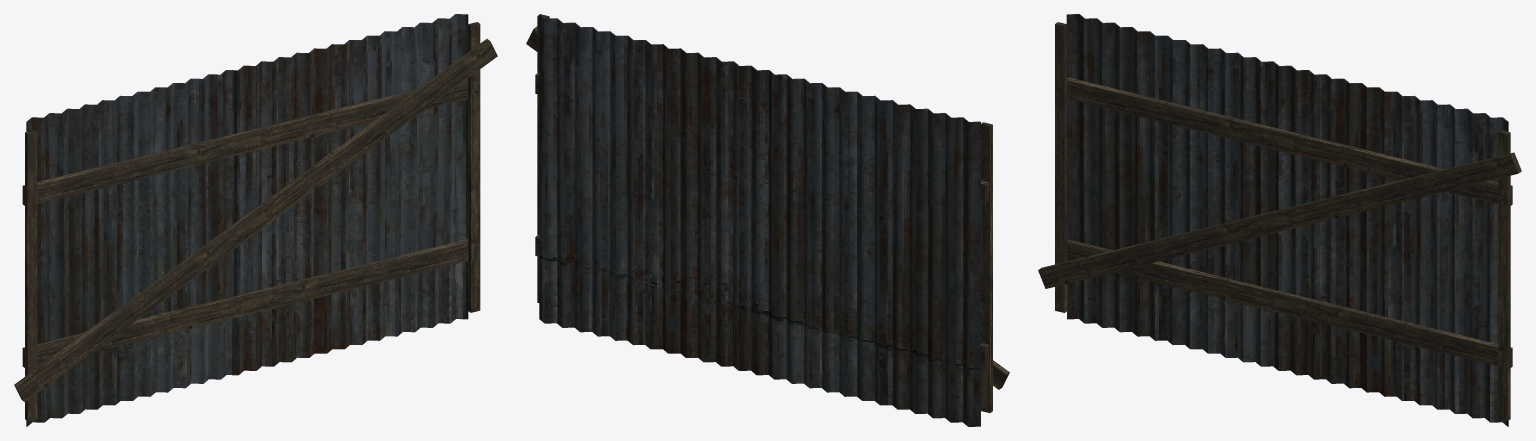
The model's file is fence_b_1.glb.
3 views of the same model, side by side, from view 1: azimuth 30°, elevation 25°; view 2: azimuth 150°, elevation 25°; view 3: azimuth 330°, elevation 25° (orthographic).
Parts seen in each view (by area): view 1: fence_b_1; view 2: fence_b_1; view 3: fence_b_1.
Boxes of the visible parts, x1,y1,x2,y2 form: fence_b_1: (14, 14, 497, 426); fence_b_1: (526, 14, 1009, 426); fence_b_1: (1038, 14, 1521, 426).
Size of the model in its own units: 4.03 by 2.44 by 0.1983.
2 materials, 2 textured.
